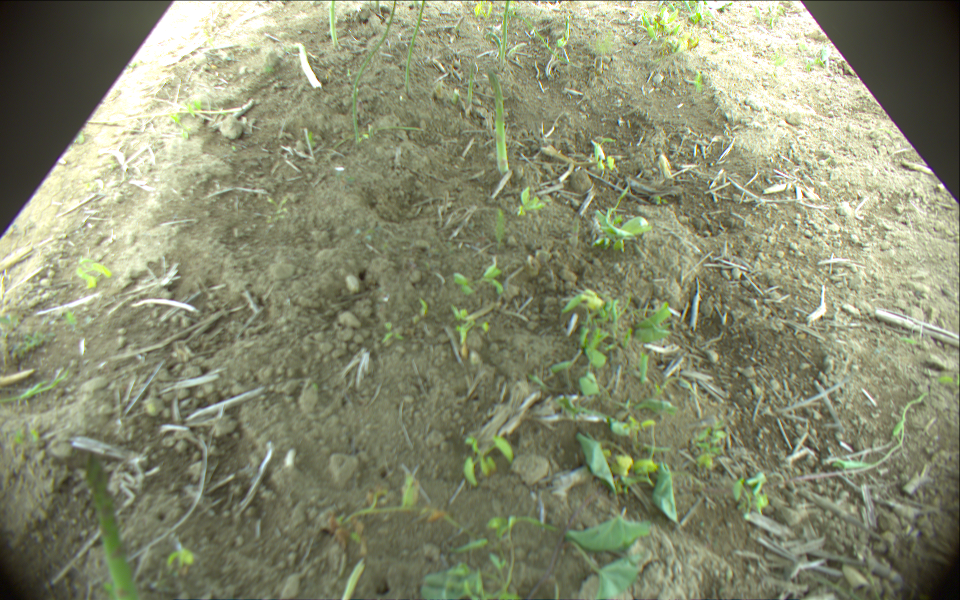aspa: (86, 453, 141, 600), (352, 1, 396, 141), (486, 71, 509, 171), (405, 1, 427, 93), (500, 1, 509, 64), (329, 1, 341, 48), (467, 63, 475, 106), (562, 14, 571, 44)
